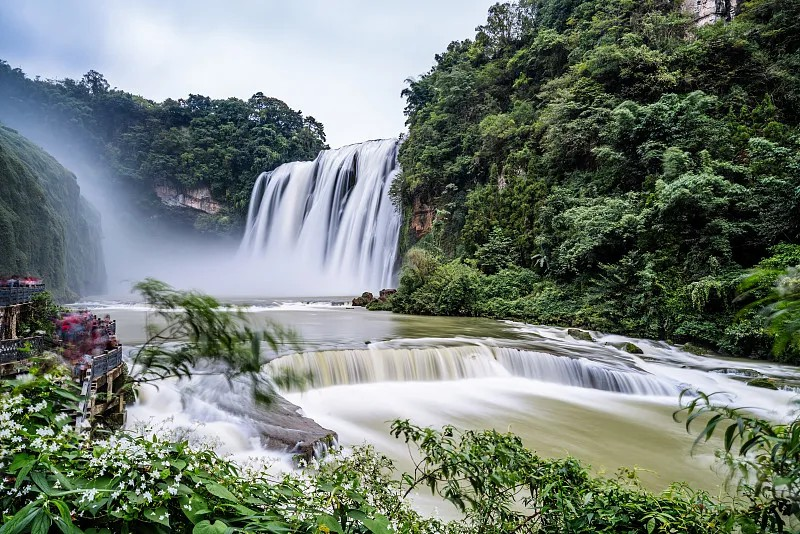Huangguoshu: (234, 139, 397, 296)
